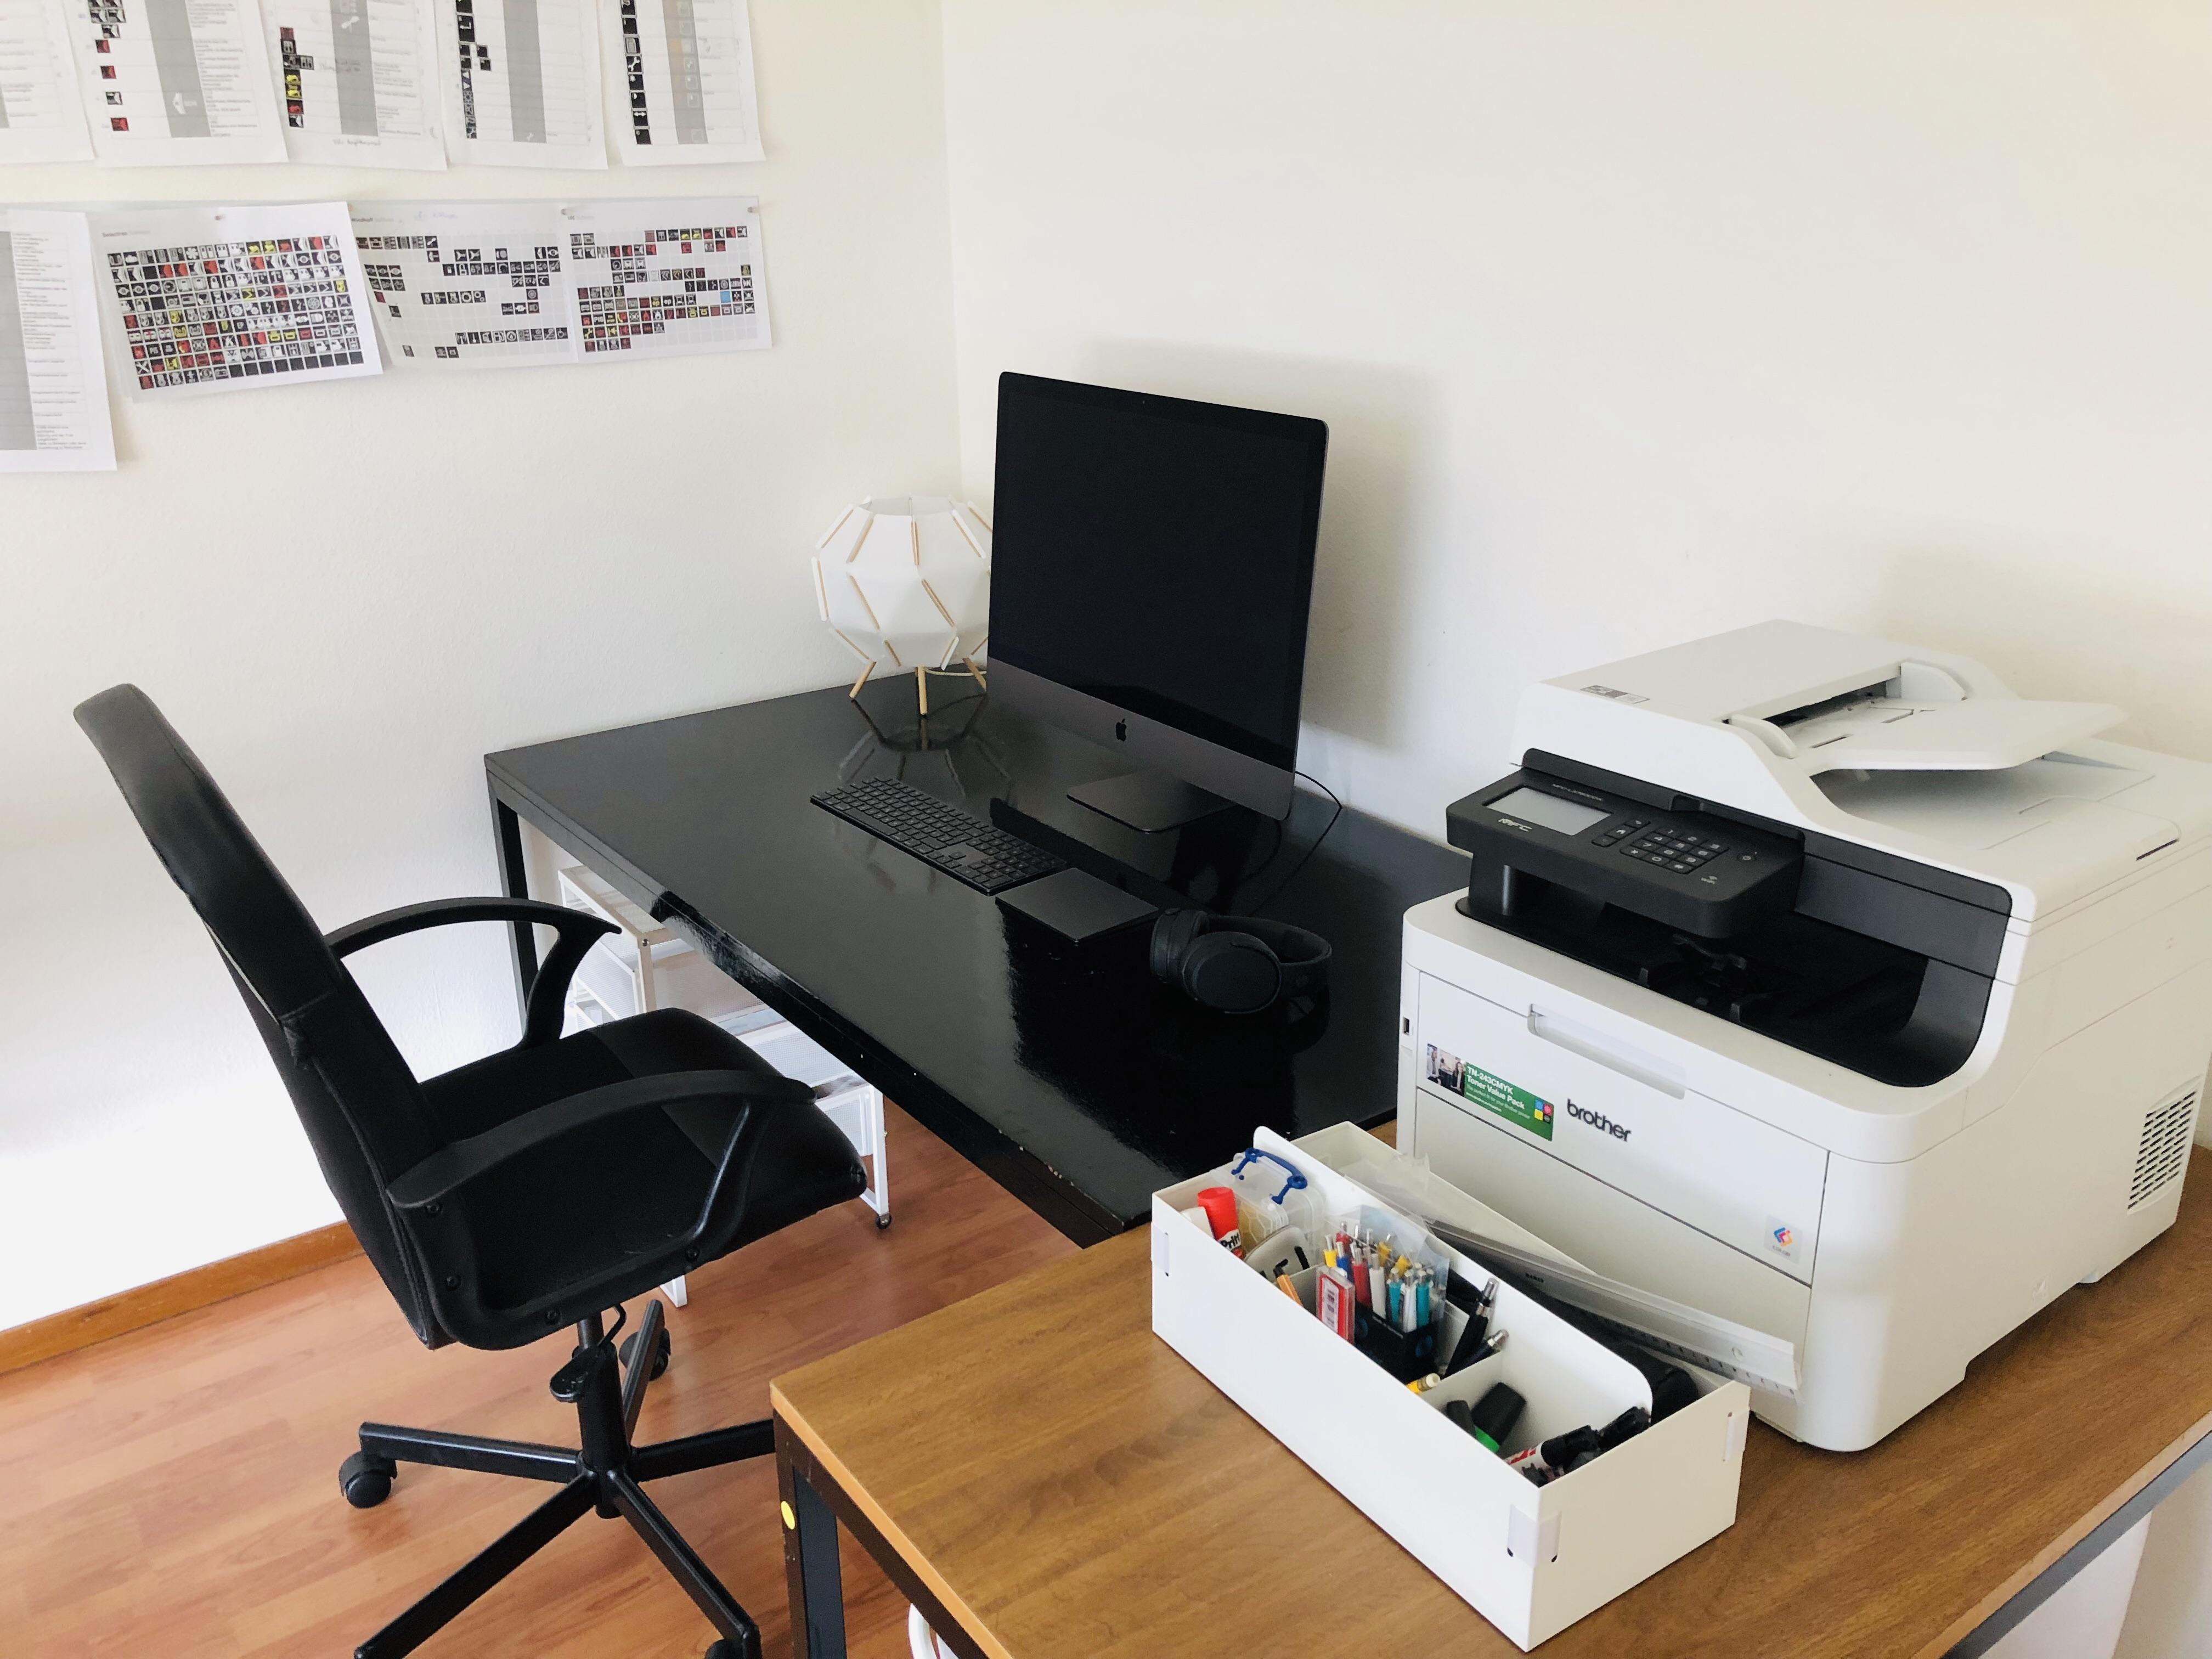Chair (Generic): (31, 673, 904, 1659)
Decoration (Generic): (805, 491, 1019, 725)
Desk (Generic): (754, 897, 2191, 1659), (442, 667, 1534, 1380)
Headphones: (1129, 884, 1346, 1021)
Keyboard (Generic): (796, 770, 1082, 890)
Monitor (iMac): (972, 369, 1339, 835)
Mouse (Magic Trackpad): (982, 859, 1162, 946)
Printer: (1374, 608, 2212, 1462)
